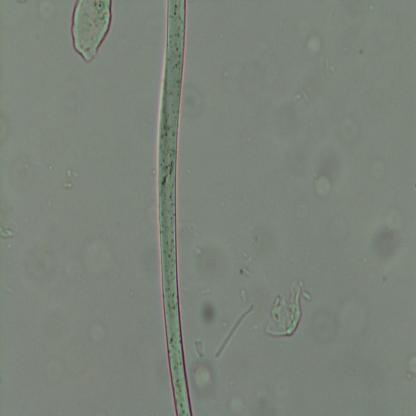Background material: (263, 274, 309, 340), (71, 0, 114, 62), (214, 302, 256, 361), (297, 299, 340, 346), (197, 242, 229, 293), (368, 230, 404, 267), (245, 218, 276, 258), (190, 361, 216, 395), (196, 298, 220, 326), (339, 110, 360, 141), (237, 251, 256, 281), (229, 393, 255, 414), (305, 30, 322, 57), (315, 173, 332, 197), (62, 168, 79, 192), (0, 218, 20, 238), (293, 86, 312, 104), (323, 52, 337, 74), (406, 353, 416, 383), (194, 340, 204, 358), (238, 288, 248, 302), (193, 245, 203, 258)
Microfibre: (156, 0, 194, 416)
